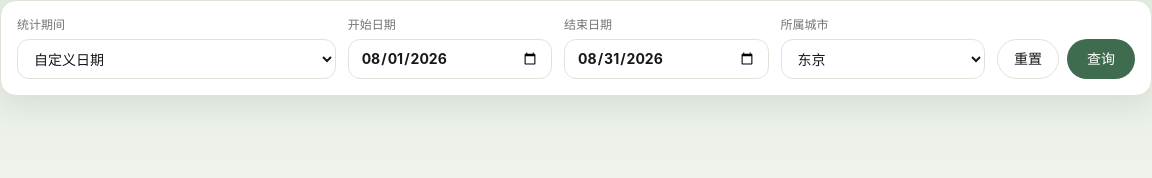
Test case: DashboardFilterBar › resets the visible draft and asks the parent to reload defaults
What coordinates should you click on to do the following:
click the button "重置"
I would click on:
 (1028, 59)
Its box is top-left (997, 39), bottom-right (1059, 79).
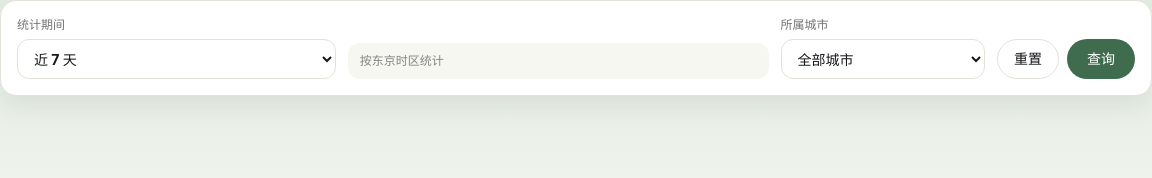
expect the dropdown named "统计期间" shows "近 7 天": met, box top-left (17, 39), bottom-right (336, 79)
expect the date field named "开始日期" is gone: met
expect the dropdown named "所属城市" shows "全部城市": met, box top-left (780, 39), bottom-right (985, 79)
